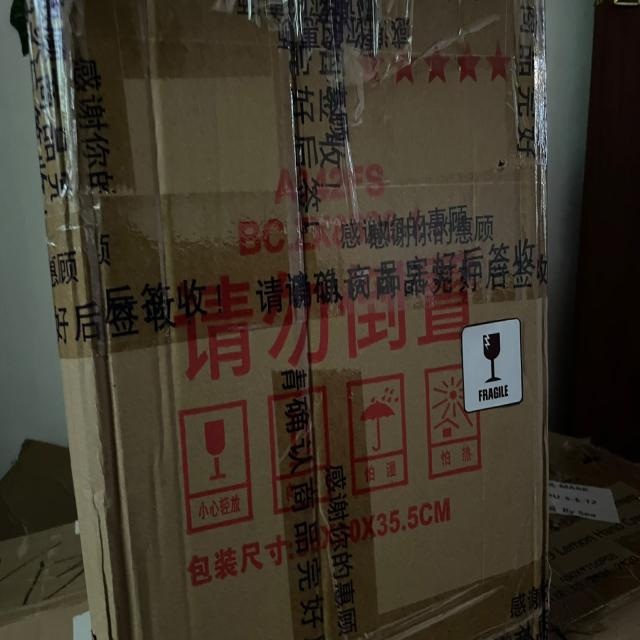carton_box: (9, 4, 617, 640)
fragile_label: (174, 393, 256, 538), (456, 310, 534, 419)
keep_dry_label: (346, 368, 414, 491)
protect_from_heat_label: (424, 366, 486, 483)
this_side_up_label: (270, 386, 340, 524)
